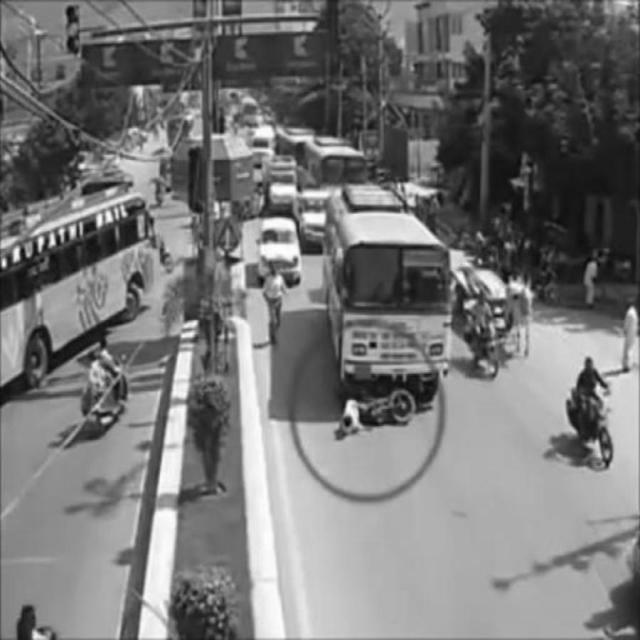accident: (331, 188, 449, 436)
person: (264, 261, 286, 349)
vehicle: (0, 186, 158, 388), (567, 353, 617, 467), (81, 329, 132, 430), (466, 291, 501, 379), (261, 216, 299, 286)
